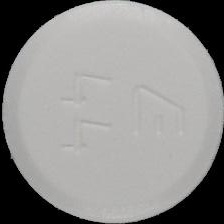55289-784: (0, 0, 224, 224)
